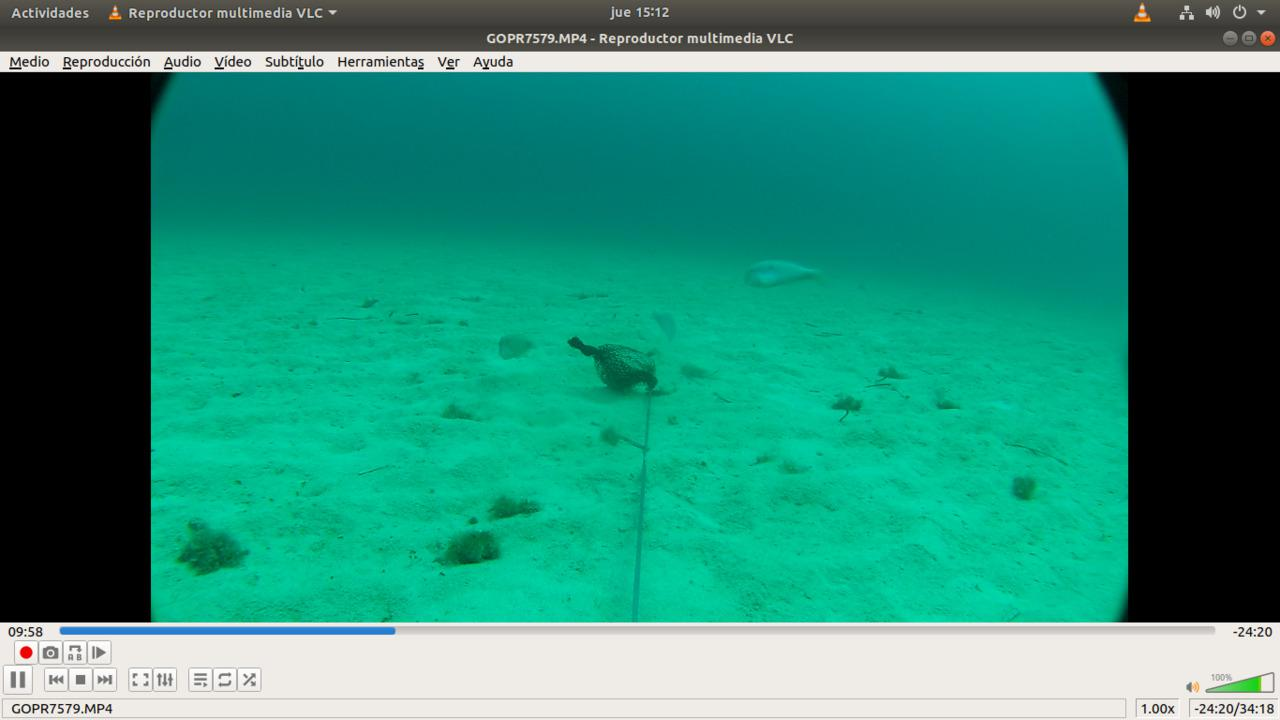raor: (739, 251, 830, 292), (484, 322, 545, 361), (639, 305, 683, 345)
